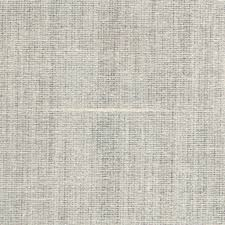Hole: (39, 84, 195, 133)
